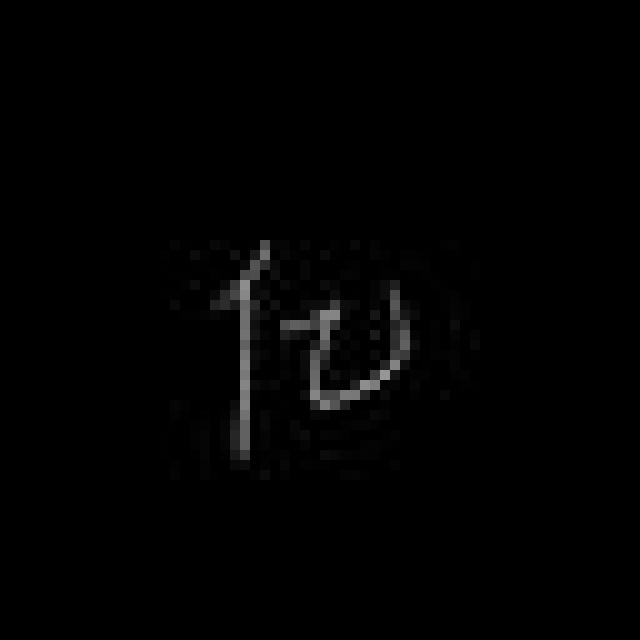100000 -a hundred thousand-: (206, 234, 421, 472)
